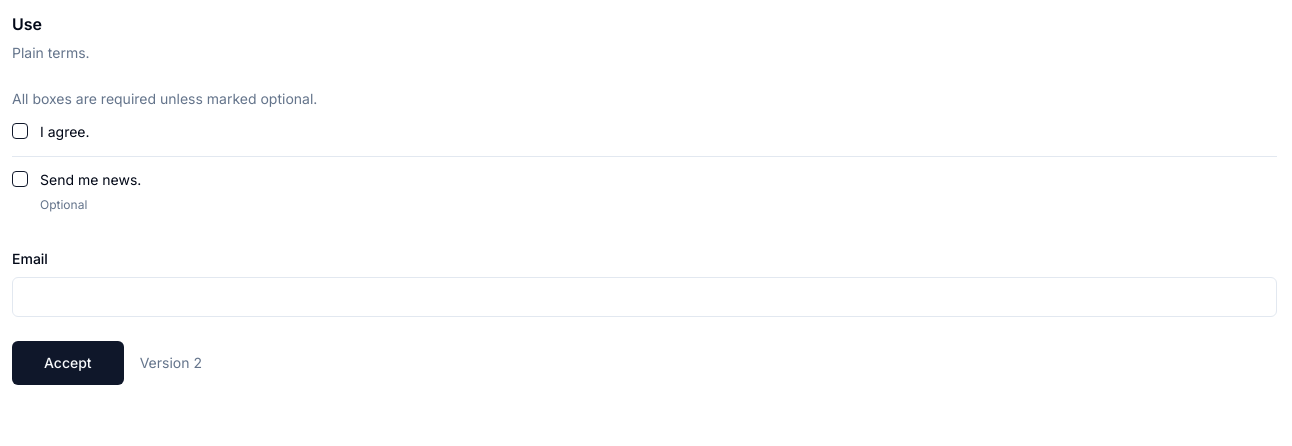
AcceptTerms › explains a stale version
Click the checkbox named "I agree." next to "I agree.": (20, 131) [12,123,28,139]
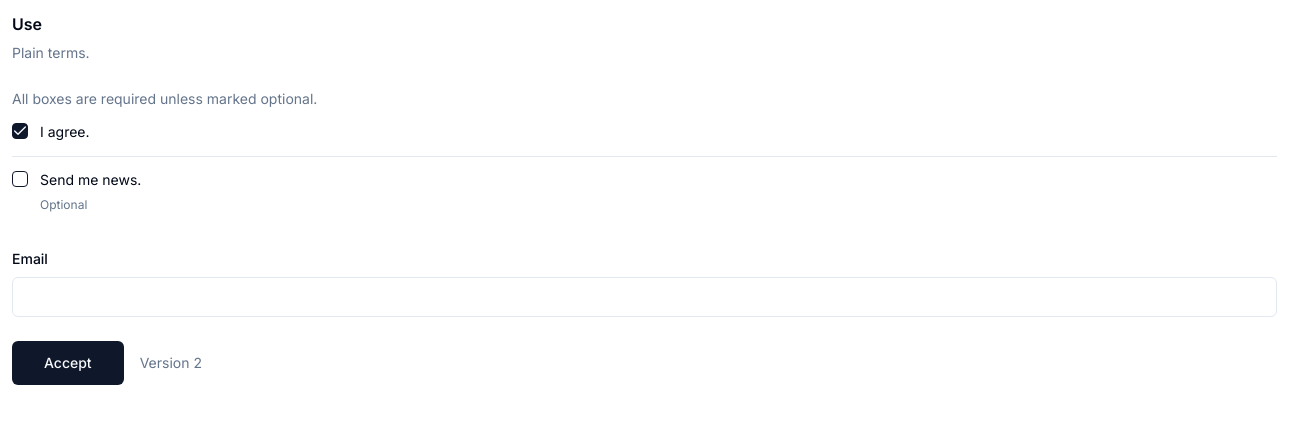
In the field labelled "Email": (644, 296) [12,276,1277,316], type "a@example.com"
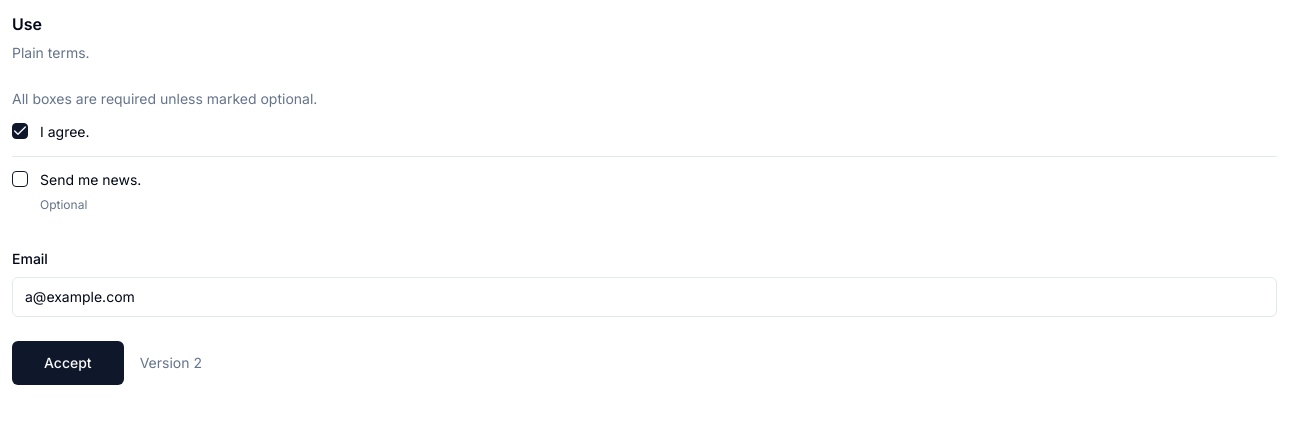
Click the button "Accept": (68, 362) [12,340,124,384]
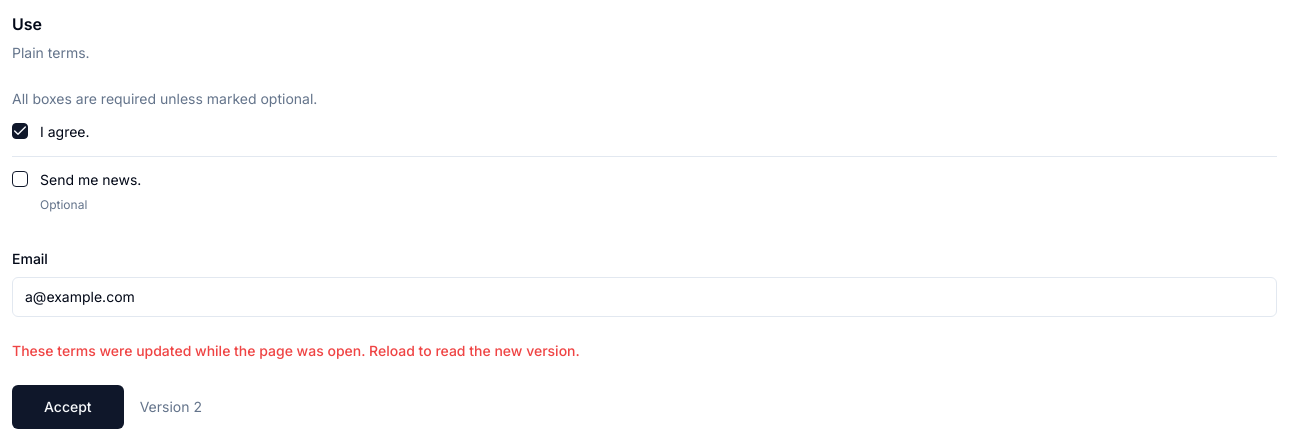
Now the message shows "updated", box [12,342,580,358]
